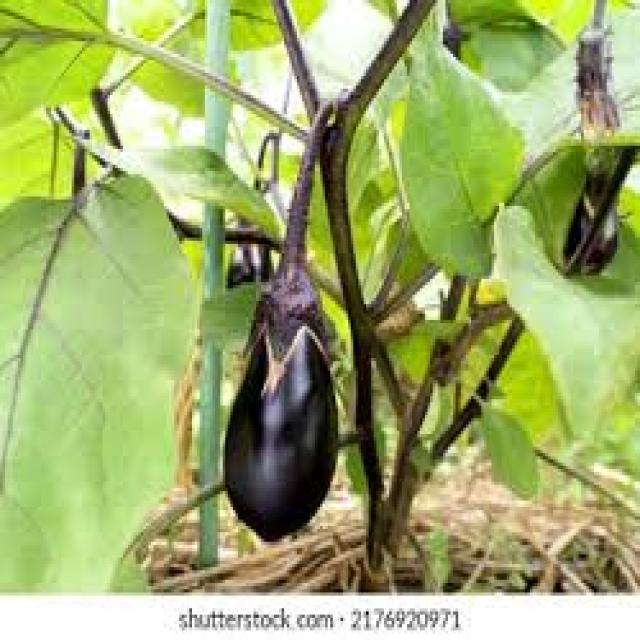Eggplant: (221, 206, 341, 540), (558, 18, 620, 280), (223, 168, 274, 338)
